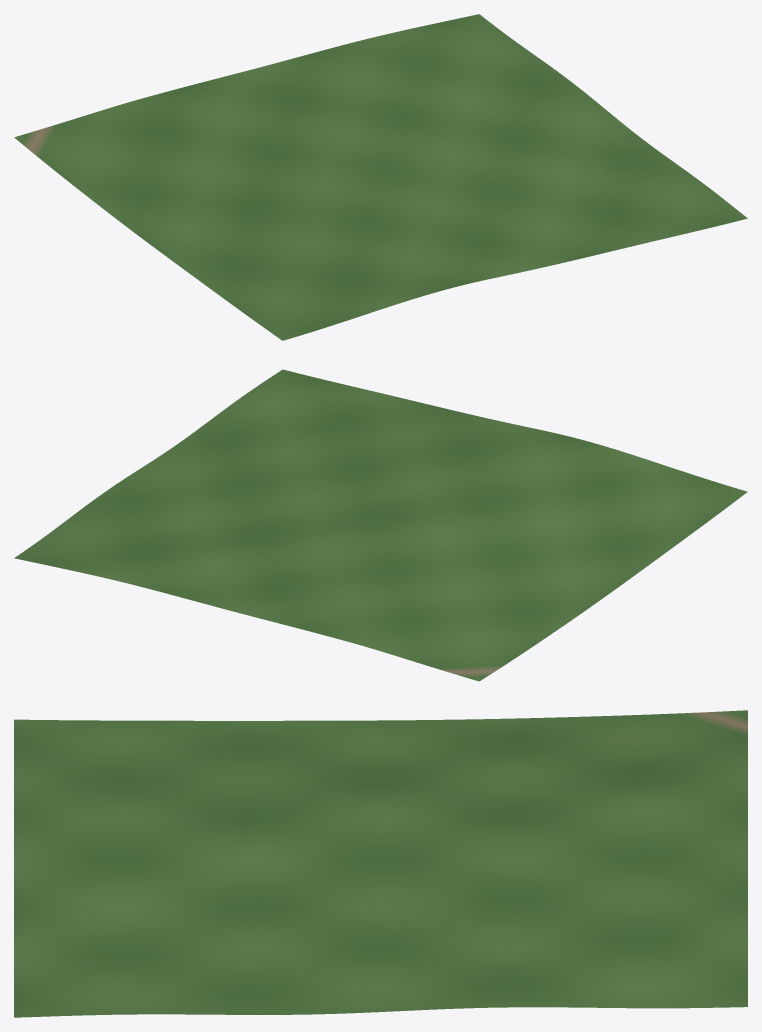
Rendered from chunk_9_5.glb.
3 renders of one model, top to bottom at view 1: azimuth 30°, elevation 25°; view 2: azimuth 150°, elevation 25°; view 3: azimuth 270°, elevation 25°, orthographic. The views are drawn at different scales.
Size of the model in its own units: 512 by 21.49 by 512.
